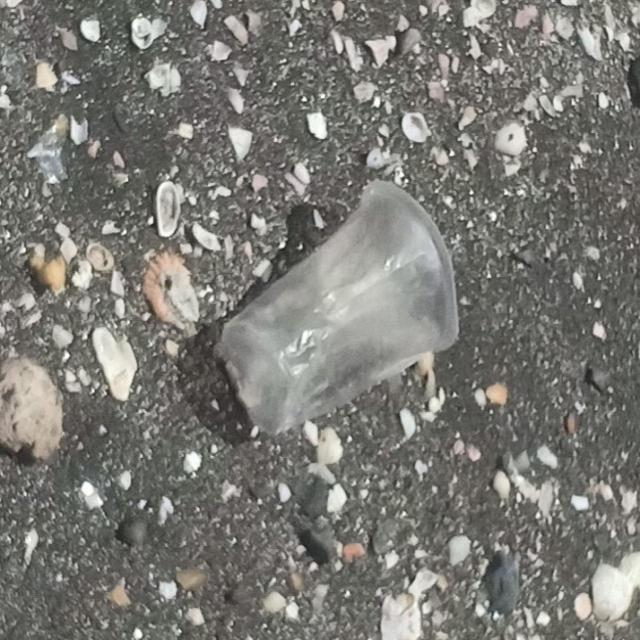plastic_waste: (221, 185, 461, 444)
